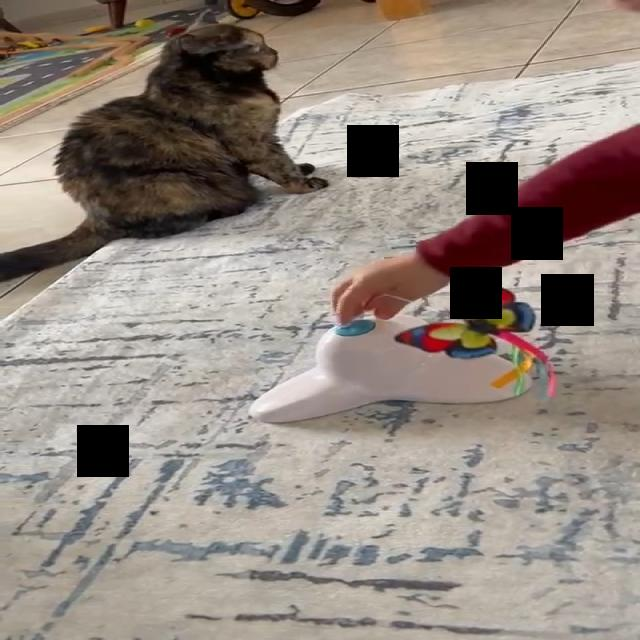authorized: (0, 22, 329, 283)
